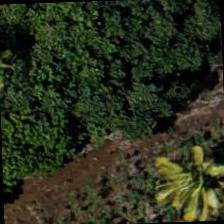Kelapa_Sawit: (155, 134, 223, 222)
